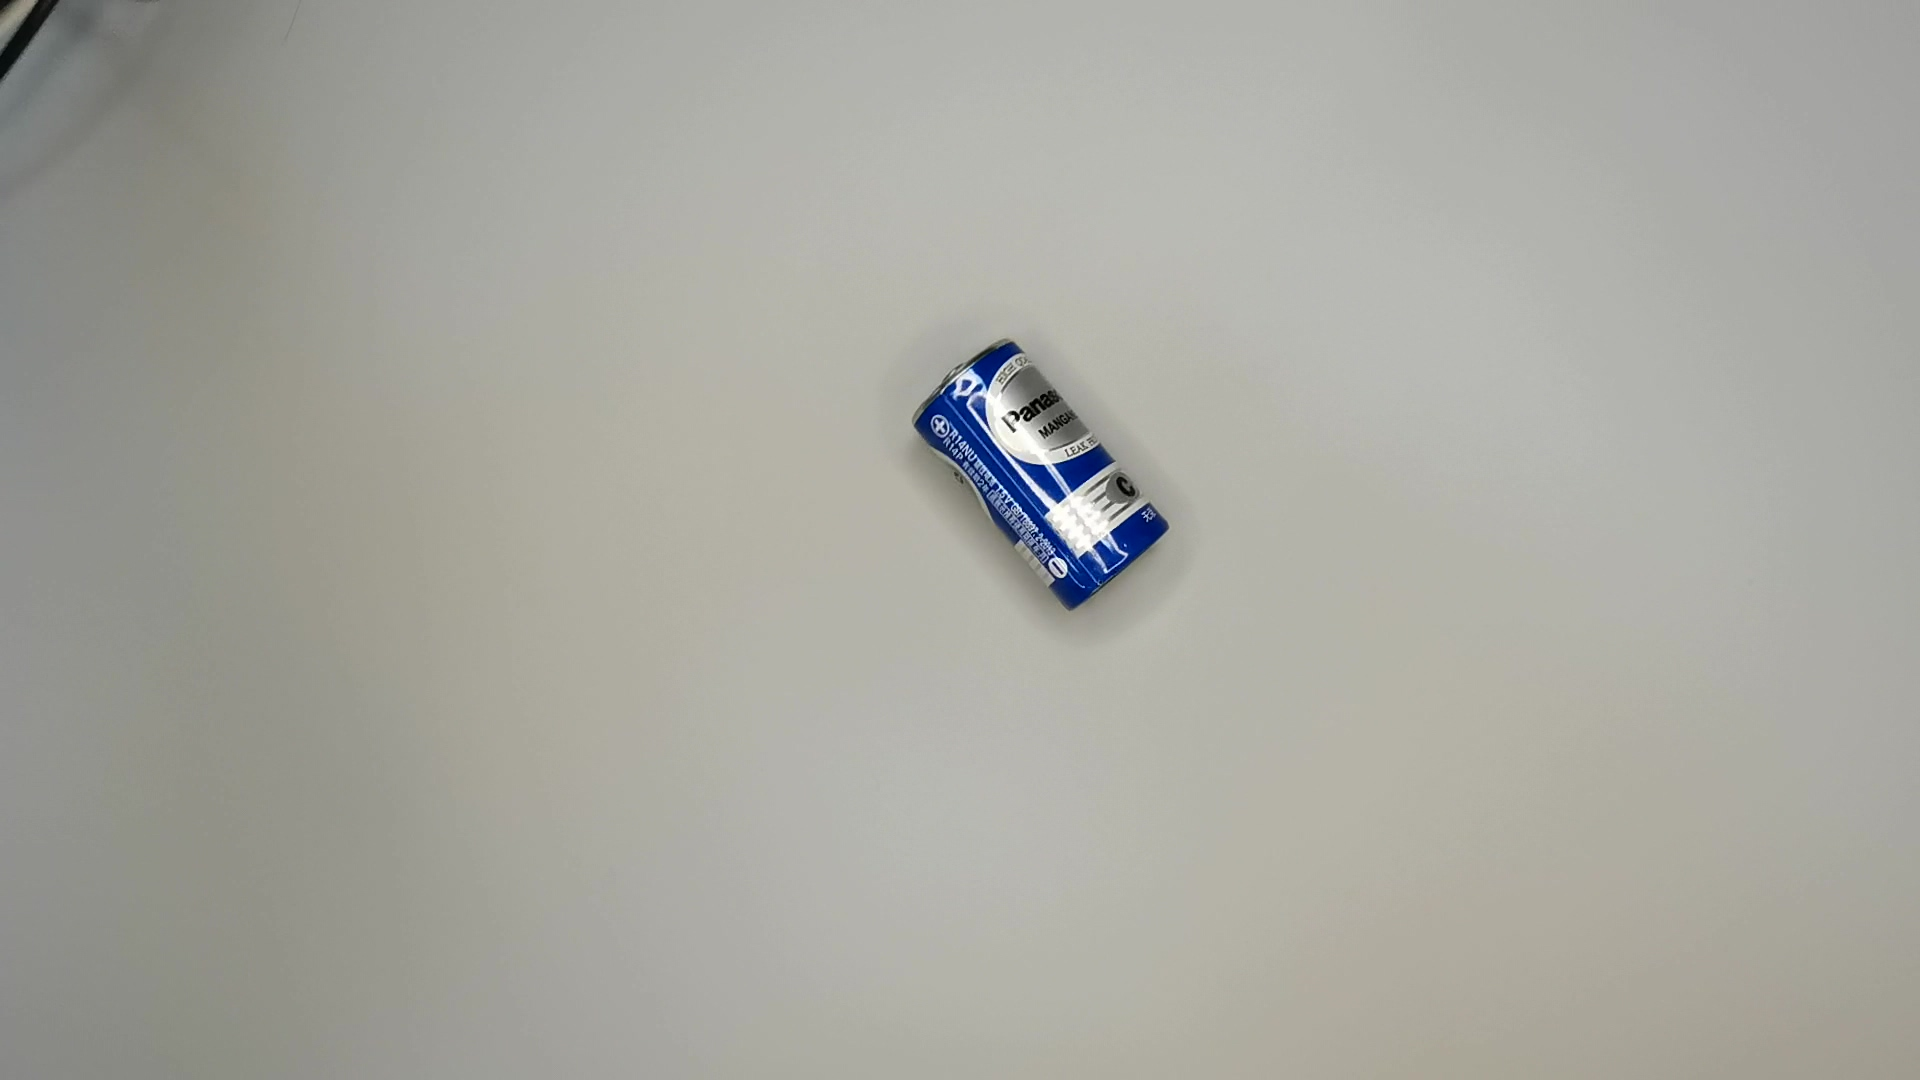battery: (911, 338, 1175, 612)
